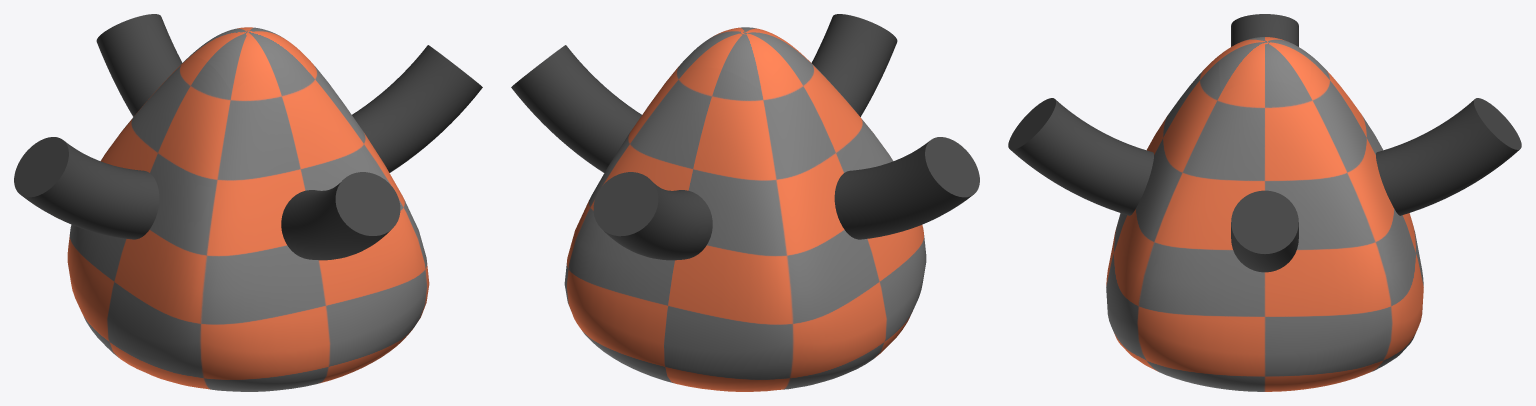
Rendered from Body(Pyramidal)+Colour(More_Orange)+Pattern(Checkered)+Arm_Angle(Bent_Up).fbx.
3 renders of one model, left to right at view 1: azimuth 30°, elevation 25°; view 2: azimuth 150°, elevation 25°; view 3: azimuth 270°, elevation 25°, orthographic. The views are drawn at different scales.
Visible parts, largest first — view 1: Body(Pyramidal)+Colour(More_Orange)+Pattern(Checkered)+Arm_A (×5); view 2: Body(Pyramidal)+Colour(More_Orange)+Pattern(Checkered)+Arm_A (×5); view 3: Body(Pyramidal)+Colour(More_Orange)+Pattern(Checkered)+Arm_A (×5).
Part boxes in pixels (<box>): Body(Pyramidal)+Colour(More_Orange)+Pattern(Checkered)+Arm_A (×5): <box>14,14,482,391</box>; Body(Pyramidal)+Colour(More_Orange)+Pattern(Checkered)+Arm_A (×5): <box>511,14,979,391</box>; Body(Pyramidal)+Colour(More_Orange)+Pattern(Checkered)+Arm_A (×5): <box>1008,14,1521,391</box>.
Bounding box in the file's own units: 60.67 × 40 × 60.67.
2 materials, 2 textured.
